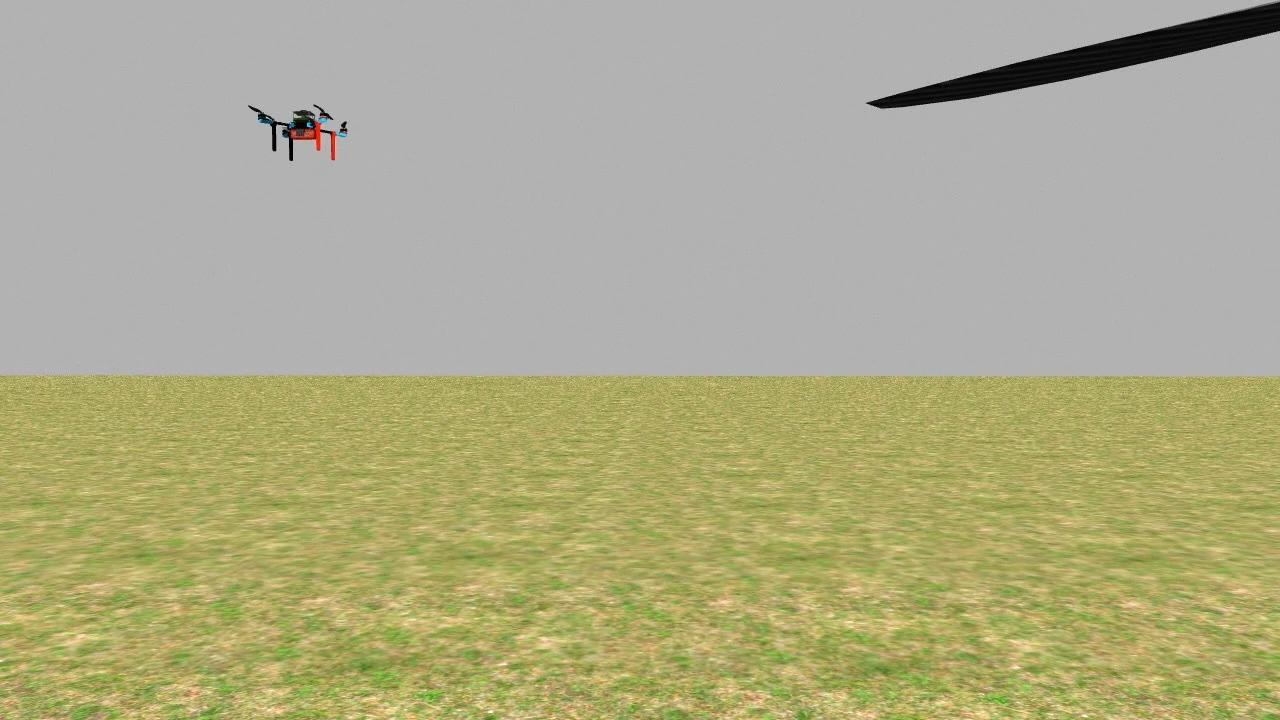UAV: (229, 88, 375, 179)
